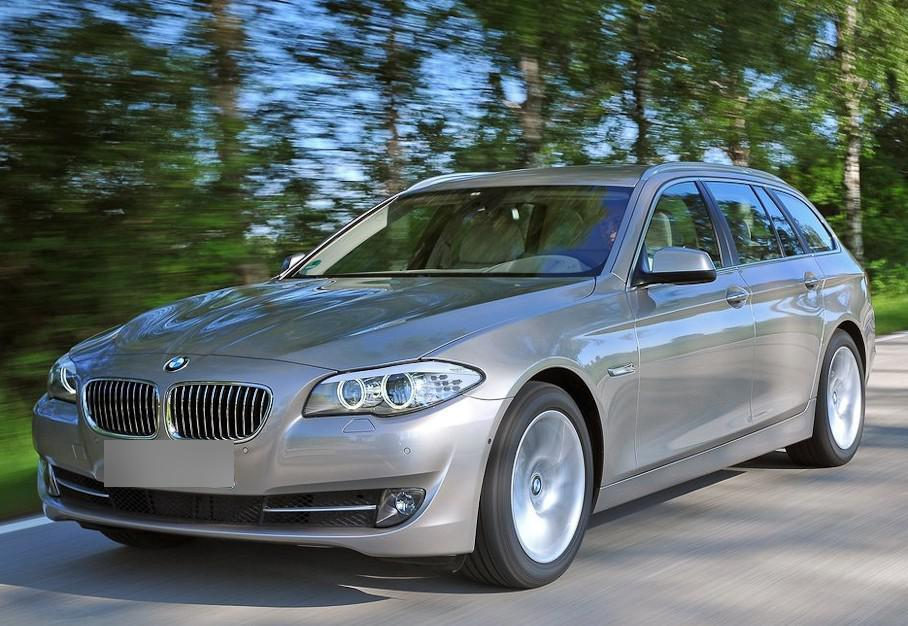Wagon: (28, 159, 878, 588)
